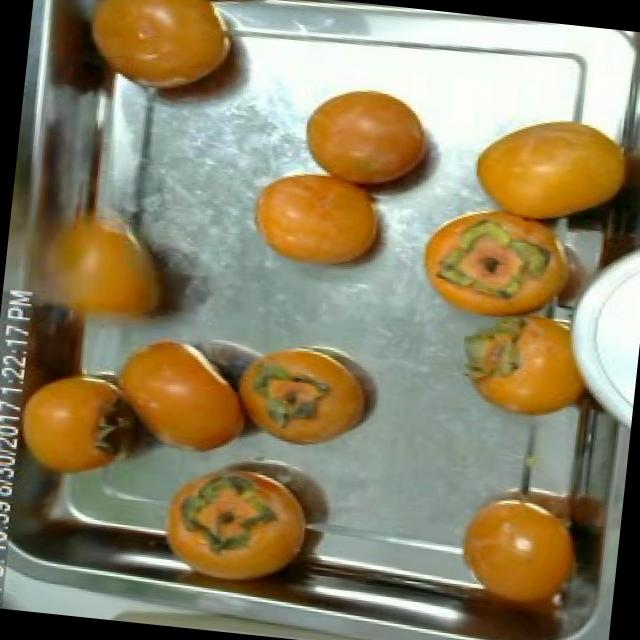Fruit: (431, 470, 614, 640), (141, 442, 335, 594), (91, 316, 269, 474), (452, 94, 640, 240), (59, 0, 265, 116), (8, 351, 165, 501), (442, 296, 606, 437), (286, 72, 452, 210), (222, 333, 392, 467), (234, 156, 406, 286)
